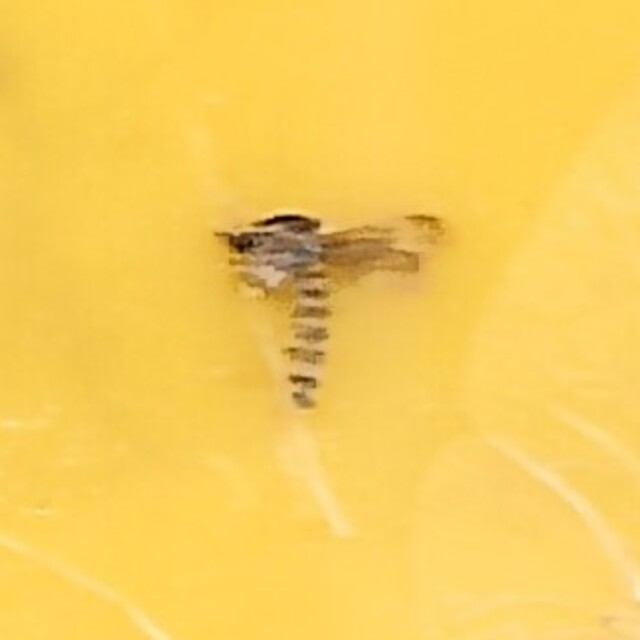Nematocera: (198, 195, 442, 445)
